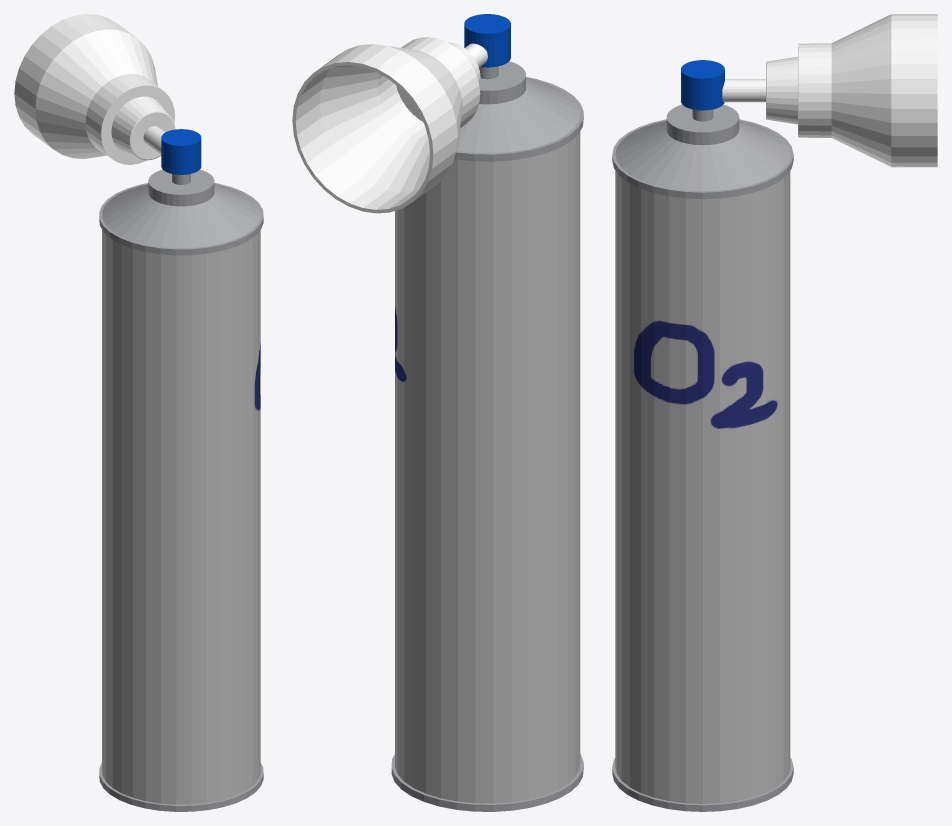
Rendered from Oxygen Bottle.glb.
3 views of the same model, side by side, from view 1: azimuth 30°, elevation 25°; view 2: azimuth 150°, elevation 25°; view 3: azimuth 270°, elevation 25° (orthographic). The views are drawn at different scales.
Parts seen in each view (by area): view 1: body, mask; view 2: body, mask; view 3: body, mask.
Part boxes in pixels (left/top/right/bottom): body: left=99, top=129, right=263, bottom=811; mask: left=14, top=14, right=175, bottom=164; body: left=391, top=14, right=583, bottom=811; mask: left=292, top=37, right=487, bottom=213; body: left=612, top=60, right=793, bottom=811; mask: left=722, top=14, right=937, bottom=167.
Size of the model in its own units: 1 by 4.58 by 1.8.
Materials: 4 (1 with a texture image).
